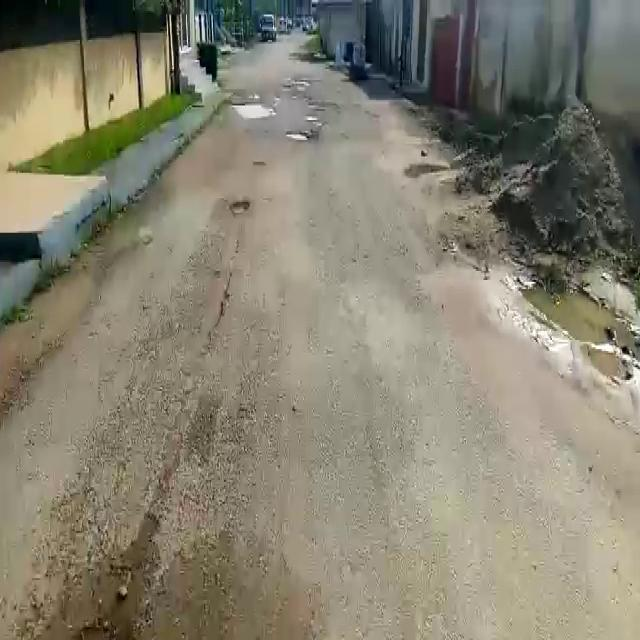pothole: (231, 101, 277, 119), (228, 199, 252, 217), (288, 128, 316, 141)
